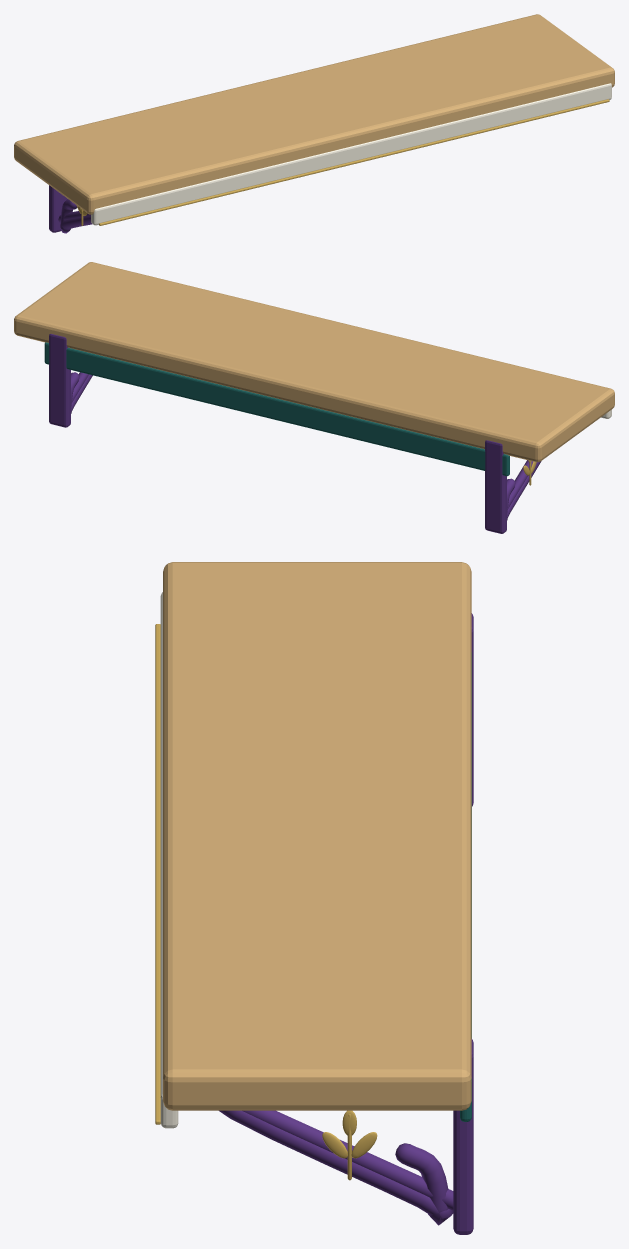
File: stock_shelf_ivory.glb
3 views of the same model, one above another, from view 1: azimuth 30°, elevation 25°; view 2: azimuth 150°, elevation 25°; view 3: azimuth 270°, elevation 25° (orthographic). The views are drawn at different scales.
Parts seen in each view (by area): view 1: Clear_walnut_plate, Molded_front_fascia, Thin_brass_fascia_bead, Wall_bracket_anchor, Curved_support_scroll; view 2: Clear_walnut_plate, Rear_wall_rail, Wall_bracket_anchor.001, Wall_bracket_anchor, Curved_support_scroll; view 3: Clear_walnut_plate, Curved_support_scroll.001, Thin_brass_fascia_bead, Wall_bracket_anchor.001, Bracket_diagonal.001, Molded_front_fascia.
Boxes of the visible parts, <box> form: Clear_walnut_plate: <box>14,14,614,214</box>; Molded_front_fascia: <box>91,83,611,225</box>; Thin_brass_fascia_bead: <box>99,99,609,225</box>; Wall_bracket_anchor: <box>49,185,67,232</box>; Curved_support_scroll: <box>59,199,92,233</box>; Clear_walnut_plate: <box>14,262,614,462</box>; Rear_wall_rail: <box>44,342,509,476</box>; Wall_bracket_anchor.001: <box>49,334,70,427</box>; Wall_bracket_anchor: <box>485,440,506,533</box>; Curved_support_scroll: <box>507,461,541,520</box>; Clear_walnut_plate: <box>163,562,471,1110</box>; Curved_support_scroll.001: <box>219,1110,453,1225</box>; Thin_brass_fascia_bead: <box>155,624,160,1124</box>; Wall_bracket_anchor.001: <box>453,1039,473,1234</box>; Bracket_diagonal.001: <box>242,1110,453,1210</box>; Molded_front_fascia: <box>160,592,178,1128</box>.
Bounding box in the file's own units: 1.5 × 0.27 × 0.392.
